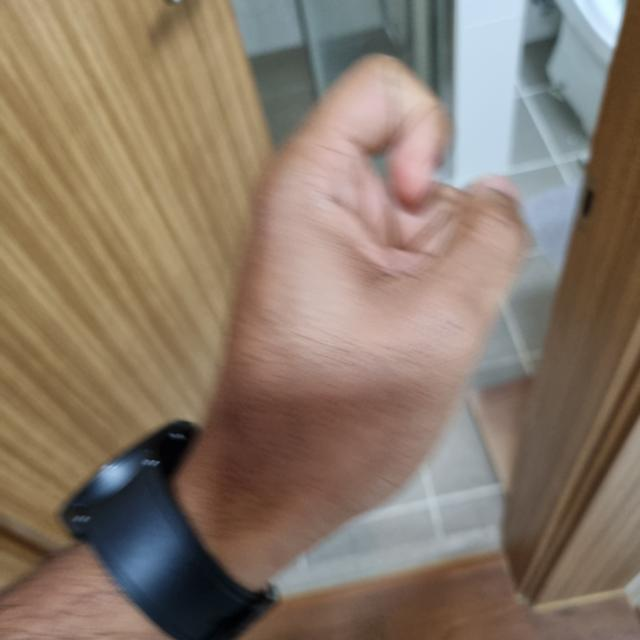Rock: (194, 54, 526, 560)
